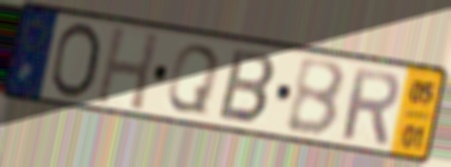B: (283, 57, 348, 140), (215, 45, 279, 127)
H: (92, 23, 162, 113)
O: (46, 20, 104, 102)
Q: (163, 42, 223, 117)
R: (339, 63, 402, 147)
